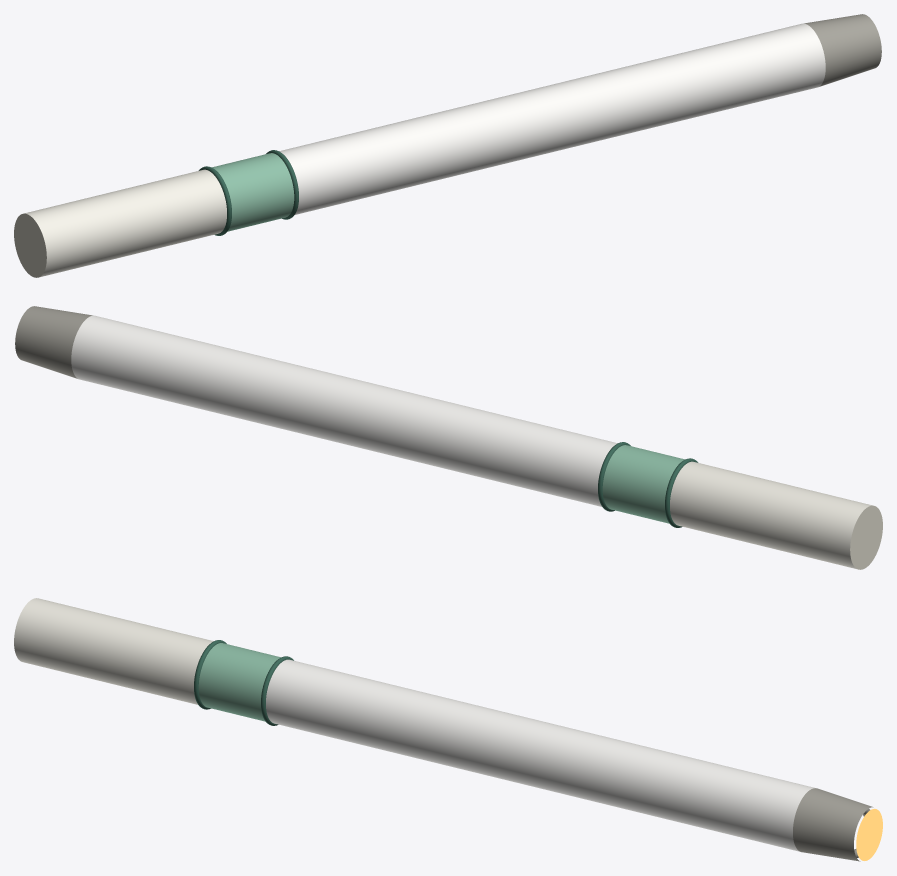
The model's file is menthol.glb.
The picture shows the model from 3 angles, top to bottom: view 1: azimuth 30°, elevation 25°; view 2: azimuth 150°, elevation 25°; view 3: azimuth 330°, elevation 25°; orthographic projection.
Visible parts, largest first — view 1: paper, filter, menthol_band, burn_taper, filter_end; view 2: paper, filter, menthol_band, burn_taper, filter_end; view 3: paper, filter, menthol_band, burn_taper, lit_end_glow.
Part boxes in pixels (x1=…): paper: x1=279, y1=23, x2=825, y2=214; filter: x1=24, y1=169, x2=226, y2=276; menthol_band: x1=212, y1=153, x2=294, y2=231; burn_taper: x1=804, y1=14, x2=881, y2=86; filter_end: x1=14, y1=213, x2=46, y2=277; paper: x1=71, y1=315, x2=617, y2=506; filter: x1=670, y1=461, x2=872, y2=568; menthol_band: x1=602, y1=445, x2=684, y2=523; burn_taper: x1=15, y1=306, x2=92, y2=378; filter_end: x1=850, y1=505, x2=882, y2=569; paper: x1=266, y1=659, x2=815, y2=851; filter: x1=14, y1=598, x2=213, y2=704; menthol_band: x1=198, y1=643, x2=280, y2=721; burn_taper: x1=793, y1=788, x2=873, y2=861; lit_end_glow: x1=856, y1=808, x2=882, y2=860.
Bounding box in the file's own units: 0.1002 × 0.00736 × 0.00736.
